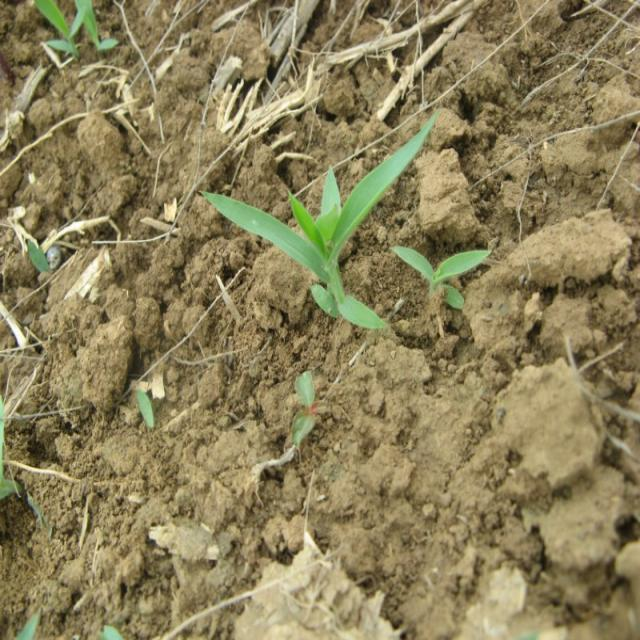bg: (199, 115, 432, 331)
